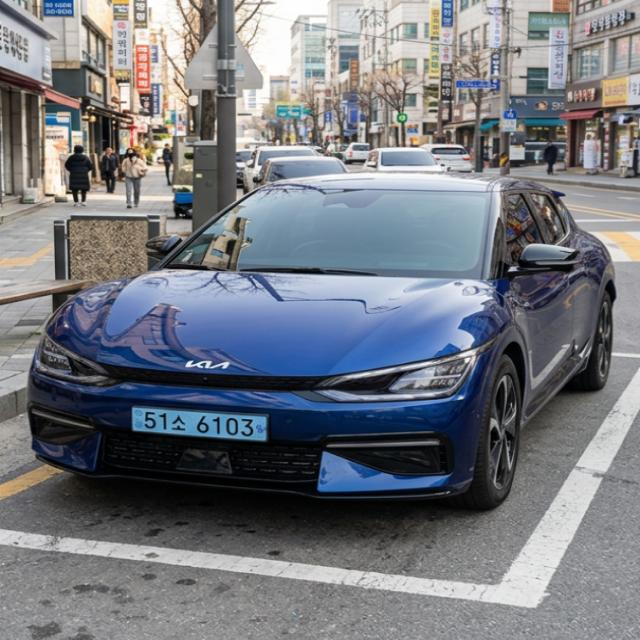car: (113, 395, 303, 452)
carev: (254, 406, 272, 446), (127, 403, 146, 437)
